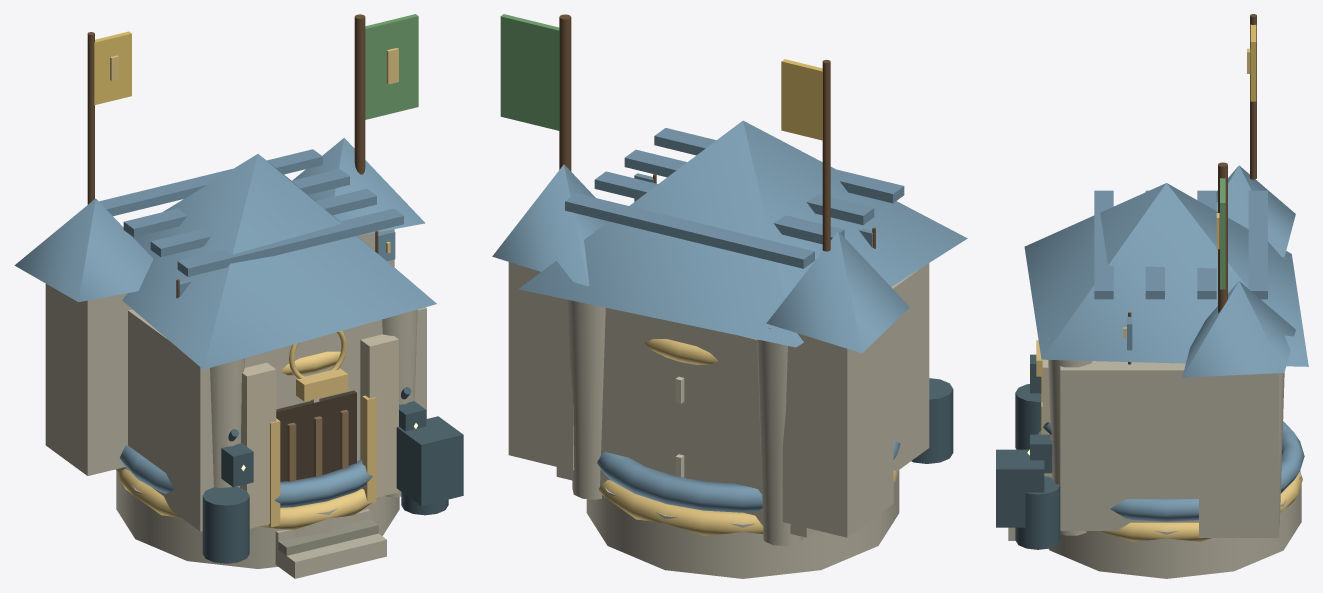
File: tower-barracks-3-1.glb
The picture shows the model from 3 angles, left to right: view 1: azimuth 30°, elevation 25°; view 2: azimuth 150°, elevation 25°; view 3: azimuth 270°, elevation 25°; orthographic projection. The views are drawn at different scales.
Visible parts, largest first — view 1: Foundation, barracks-L3-1; view 2: Foundation, barracks-L3-1; view 3: Foundation, barracks-L3-1.
Part boxes in pixels (box(x1,y1,x2,y2)): Foundation: box(14, 14, 463, 578); barracks-L3-1: box(116, 470, 399, 568); Foundation: box(492, 14, 967, 546); barracks-L3-1: box(586, 470, 899, 578); Foundation: box(996, 14, 1308, 549); barracks-L3-1: box(1049, 472, 1301, 578).
Size of the model in its own units: 2.5 by 3.09 by 1.94.
